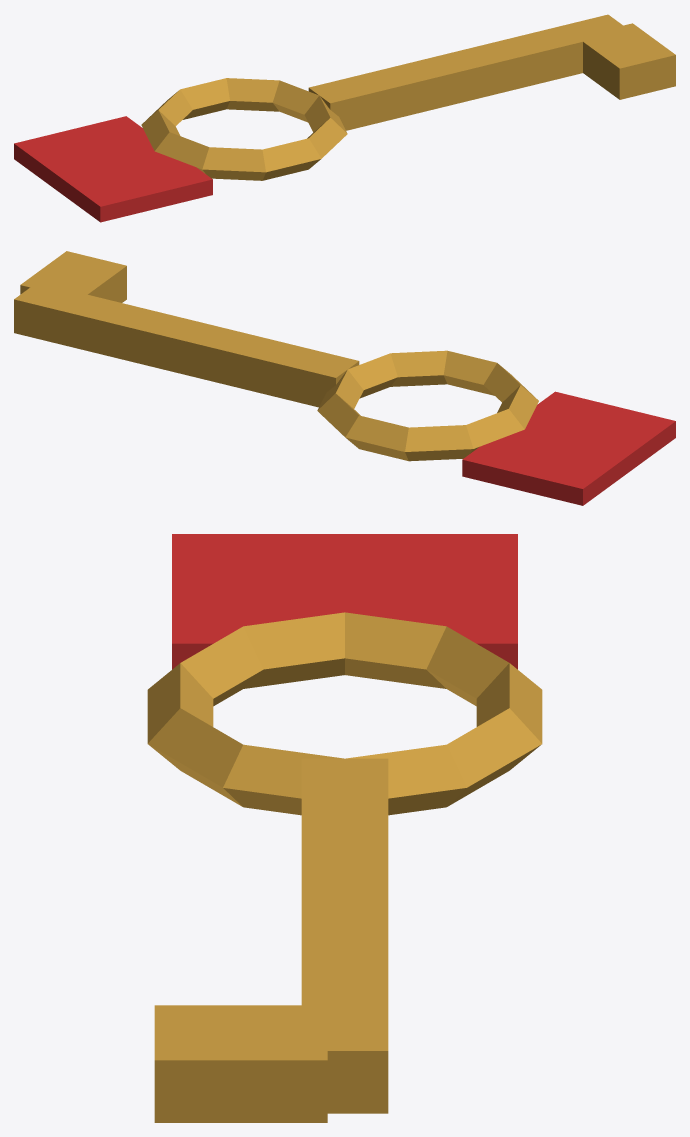
File: hatch_key.glb
3 views of the same model, one above another, from view 1: azimuth 30°, elevation 25°; view 2: azimuth 150°, elevation 25°; view 3: azimuth 270°, elevation 25° (orthographic). The views are drawn at different scales.
Parts seen in each view (by area): view 1: shaft_key_brass, tag_tag_red, ring_key_brass, bit_key_brass; view 2: shaft_key_brass, tag_tag_red, ring_key_brass, bit_key_brass; view 3: ring_key_brass, tag_tag_red, shaft_key_brass, bit_key_brass.
Boxes of the visible parts, x1=… form: shaft_key_brass: x1=308, y1=14, x2=628, y2=130; tag_tag_red: x1=14, y1=116, x2=212, y2=222; ring_key_brass: x1=141, y1=78, x2=347, y2=180; bit_key_brass: x1=578, y1=23, x2=675, y2=99; shaft_key_brass: x1=14, y1=282, x2=359, y2=407; tag_tag_red: x1=462, y1=391, x2=675, y2=505; ring_key_brass: x1=317, y1=350, x2=538, y2=461; bit_key_brass: x1=20, y1=251, x2=126, y2=302; ring_key_brass: x1=147, y1=612, x2=542, y2=815; tag_tag_red: x1=172, y1=534, x2=517, y2=669; shaft_key_brass: x1=301, y1=758, x2=388, y2=1113; bit_key_brass: x1=154, y1=1005, x2=327, y2=1122.
Size of the model in its own units: 0.1525 by 0.008 by 0.0457.
